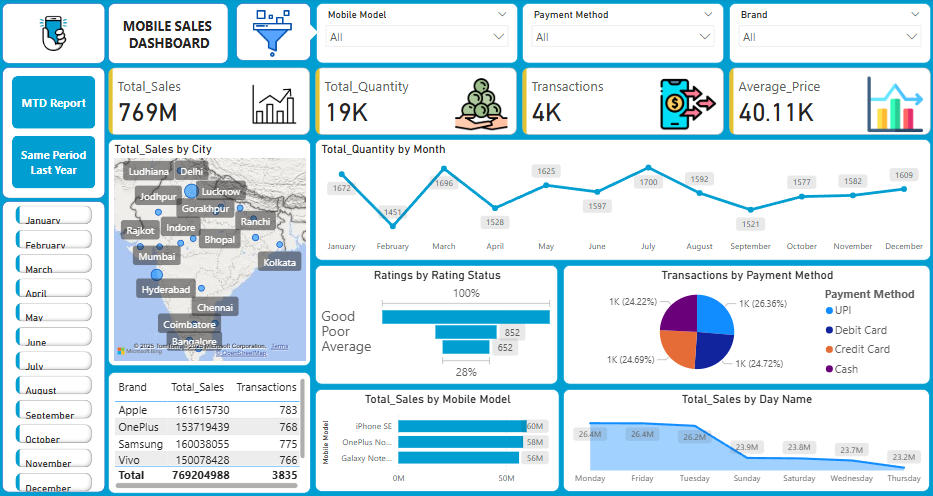

The dashboard page shown, as its layout file describes it:
{"tool":"powerbi","page":{"name":"Dashboard","canvas":[1355,720],"ordinal":0},"visuals":[{"type":"shape","box":[8.7,7.3,148.6,87.4],"z":0},{"type":"image","box":[45.2,11.7,75.8,78.7],"z":1000},{"type":"shape","box":[8.7,99.1,148.6,189.4],"z":2000},{"type":"shape","box":[8.7,292.9,148.6,419.6],"z":3000},{"type":"advancedSlicerVisual","fields":{"Values":["Custom_Calender.Date.Variation.Date Hierarchy.Month"]},"box":[23.3,293.3,120,426.7],"z":4000},{"type":"cardVisual","fields":{"Data":["Mobile Sales data.Total_Sales","Mobile Sales data.Total_Quantity","Mobile Sales data.Transactions","Mobile Sales data.Average_Price"]},"box":[157.4,94.7,1196,107.8],"z":5000},{"type":"slicer","fields":{"Values":["Mobile Sales data.Mobile Model"]},"box":[460.4,7.3,291.4,87.4],"z":6000},{"type":"slicer","fields":{"Values":["Mobile Sales data.Payment Method"]},"box":[757.6,7.3,291.4,87.4],"z":7000},{"type":"slicer","fields":{"Values":["Mobile Sales data.Brand"]},"box":[1054.9,7.3,291.4,87.4],"z":8000},{"type":"shape","box":[345.3,7.3,107.8,83],"z":9000},{"type":"image","box":[303.1,11.7,190.9,78.7],"z":10000},{"type":"shape","box":[426.9,35,37.9,29.1],"z":11000},{"type":"shape","box":[161.7,7.3,173.4,87.4],"z":12000},{"type":"textbox","box":[174.8,17.5,150.1,67],"z":13000},{"type":"map","fields":{"Category":["Mobile Sales data.City"],"Size":["Mobile Sales data.Total_Sales"]},"box":[161.7,203.3,291.7,326.7],"z":14000},{"type":"lineChart","fields":{"Category":["Custom_Calender.Date.Variation.Date Hierarchy.Month"],"Y":["Mobile Sales data.Total_Quantity"]},"box":[460,203.3,886.7,175],"z":15000},{"type":"funnel","title":"Ratings by Rating Status","fields":{"Y":["CountNonNull(Mobile Sales data.Customer Age)"],"Category":["Mobile Sales data.Rating_Status"]},"box":[460,385,350,172],"z":16000},{"type":"pieChart","fields":{"Category":["Mobile Sales data.Payment Method"],"Y":["Mobile Sales data.Transactions"]},"box":[816.7,385,529,171.7],"z":17000},{"type":"clusteredBarChart","fields":{"Y":["Mobile Sales data.Total_Sales"],"Category":["Mobile Sales data.Mobile Model"]},"box":[460,563.3,351.7,148.3],"z":18000},{"type":"areaChart","fields":{"Y":["Mobile Sales data.Total_Sales"],"Category":["Custom_Calender.Day Name"]},"box":[816.7,563.3,528.3,148.3],"z":19000},{"type":"tableEx","fields":{"Values":["Mobile Sales data.Brand","Mobile Sales data.Total_Sales","Mobile Sales data.Transactions"]},"box":[161.7,538.3,291.7,175],"z":20000},{"type":"pageNavigator","box":[23.3,111.7,120,163.3],"z":21000}]}

Visuals, with their boxes in screenshot pixels (x1, y1, x2, y2), scaled from the page's 1355x720 canvas onto the 933x496 screenshot:
shape: box(6, 5, 108, 65)
image: box(31, 8, 83, 62)
shape: box(6, 68, 108, 199)
shape: box(6, 202, 108, 491)
advancedSlicerVisual - Custom_Calender.Date.Variation.Date Hierarchy.Month: box(16, 202, 99, 495)
cardVisual - Mobile Sales data.Total_Sales x Mobile Sales data.Total_Quantity: box(108, 65, 932, 140)
slicer - Mobile Sales data.Mobile Model: box(317, 5, 518, 65)
slicer - Mobile Sales data.Payment Method: box(522, 5, 722, 65)
slicer - Mobile Sales data.Brand: box(726, 5, 927, 65)
shape: box(238, 5, 312, 62)
image: box(209, 8, 340, 62)
shape: box(294, 24, 320, 44)
shape: box(111, 5, 231, 65)
textbox: box(120, 12, 224, 58)
map - Mobile Sales data.City x Mobile Sales data.Total_Sales: box(111, 140, 312, 365)
lineChart - Custom_Calender.Date.Variation.Date Hierarchy.Month x Mobile Sales data.Total_Quantity: box(317, 140, 927, 261)
"Ratings by Rating Status" funnel: box(317, 265, 558, 384)
pieChart - Mobile Sales data.Payment Method x Mobile Sales data.Transactions: box(562, 265, 927, 384)
clusteredBarChart - Mobile Sales data.Total_Sales x Mobile Sales data.Mobile Model: box(317, 388, 559, 490)
areaChart - Mobile Sales data.Total_Sales x Custom_Calender.Day Name: box(562, 388, 926, 490)
tableEx - Mobile Sales data.Brand x Mobile Sales data.Total_Sales: box(111, 371, 312, 491)
pageNavigator: box(16, 77, 99, 189)
